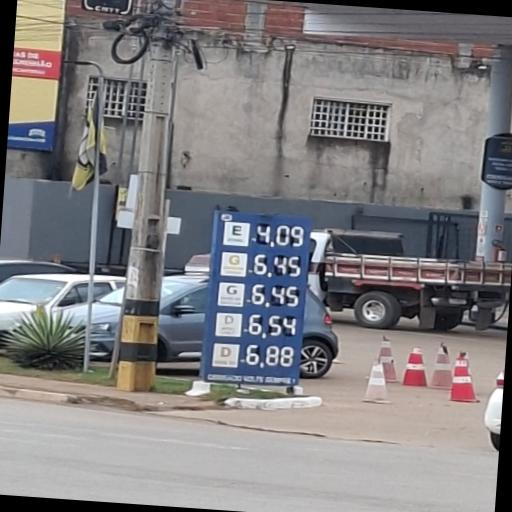S10: (212, 342, 239, 369)
S500: (216, 312, 242, 337)
placa: (206, 214, 309, 376)
preco: (245, 341, 297, 373), (249, 313, 296, 341)
